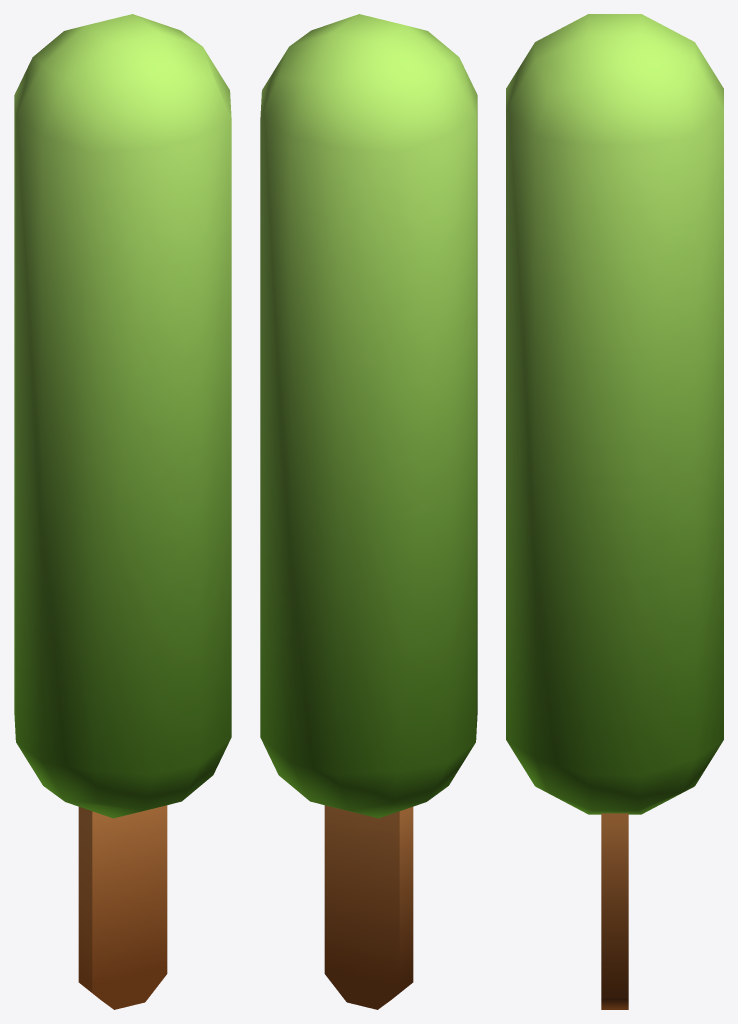
File: m_PopsicleStick05.fbx
3 views of the same model, side by side, from view 1: azimuth 30°, elevation 25°; view 2: azimuth 150°, elevation 25°; view 3: azimuth 270°, elevation 25° (orthographic).
Visible parts, largest first — view 1: m_PopsicleStick05; view 2: m_PopsicleStick05; view 3: m_PopsicleStick05.
Part boxes in pixels (x1,y1,x2,y2): m_PopsicleStick05: [14, 14, 231, 1009]; m_PopsicleStick05: [260, 14, 477, 1009]; m_PopsicleStick05: [506, 14, 723, 1009].
Size of the model in its own units: 4.64 by 22.99 by 4.64.
